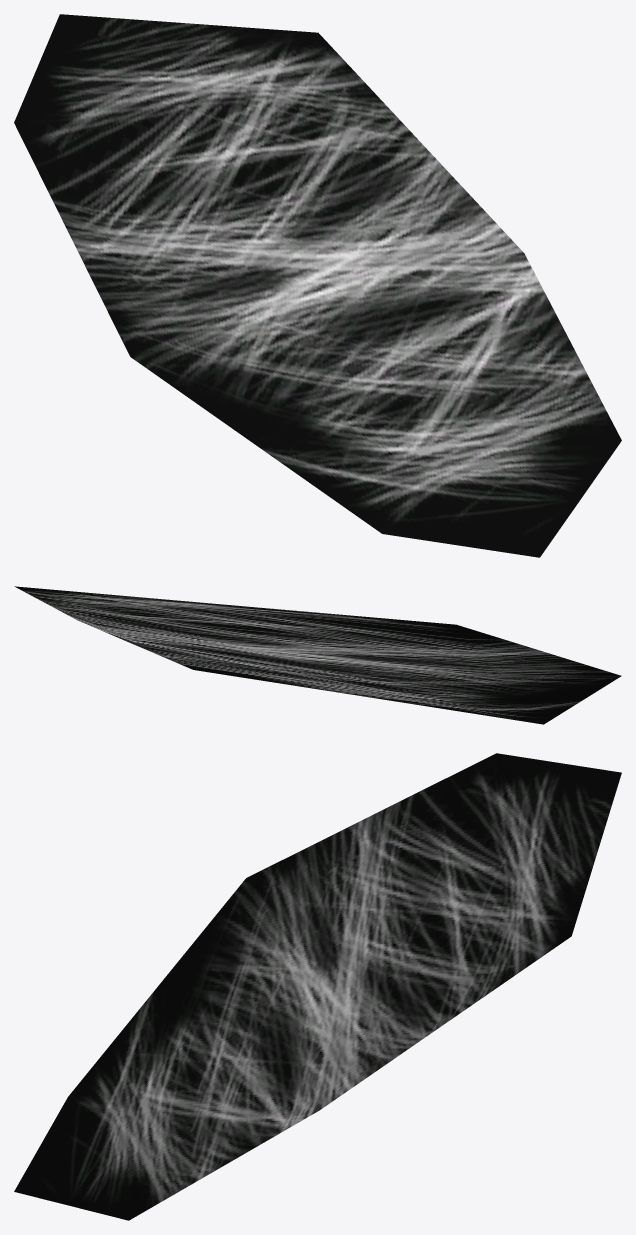
File: MIRKWOOD_SPIDERWEB_COVERS02.fbx
3 renders of one model, top to bottom at view 1: azimuth 30°, elevation 25°; view 2: azimuth 150°, elevation 25°; view 3: azimuth 270°, elevation 25°, orthographic. The views are drawn at different scales.
Visible parts, largest first — view 1: MIRKWOOD_SPIDERWEB_COVERS02; view 2: MIRKWOOD_SPIDERWEB_COVERS02; view 3: MIRKWOOD_SPIDERWEB_COVERS02.
Boxes of the visible parts, x1=… form: MIRKWOOD_SPIDERWEB_COVERS02: x1=14, y1=14, x2=621, y2=557; MIRKWOOD_SPIDERWEB_COVERS02: x1=14, y1=586, x2=621, y2=724; MIRKWOOD_SPIDERWEB_COVERS02: x1=14, y1=753, x2=621, y2=1220.
Size of the model in its own units: 31618 by 24708 by 39886.
Materials: 1 (1 with a texture image).
